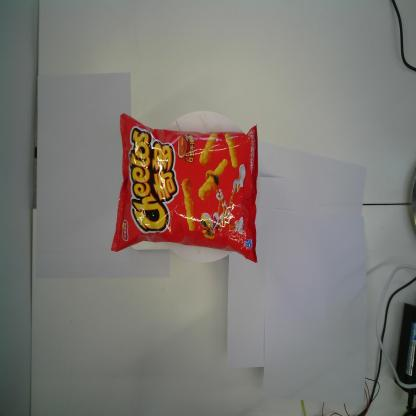Puffed Food: (110, 110, 259, 264)
